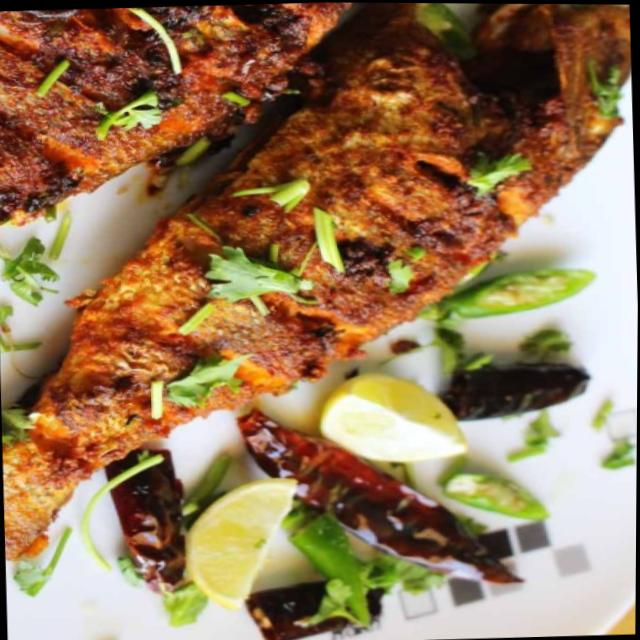FISH FRY: (0, 2, 631, 558)
